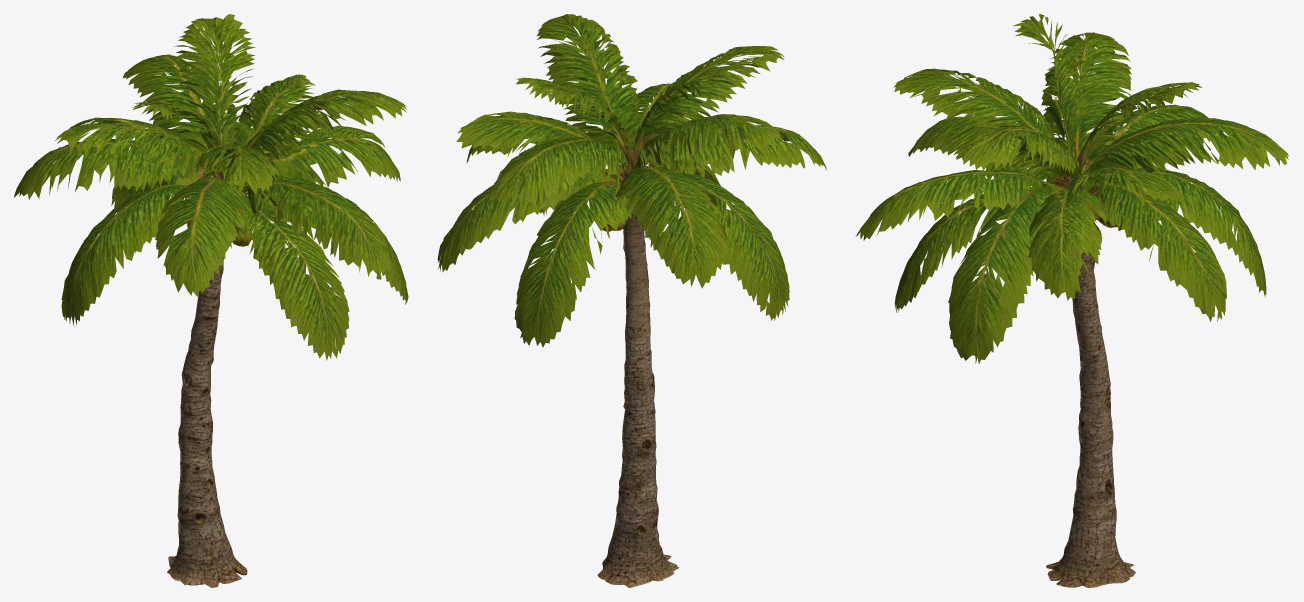
File: tropical-palm.glb
The picture shows the model from 3 angles, left to right: view 1: azimuth 30°, elevation 25°; view 2: azimuth 150°, elevation 25°; view 3: azimuth 270°, elevation 25°; orthographic projection.
Parts seen in each view (by area): view 1: Object_4; view 2: Object_4; view 3: Object_4.
Boxes of the visible parts, box(x1,y1,x2,y2) form: Object_4: box(14, 14, 408, 587); Object_4: box(437, 14, 826, 587); Object_4: box(855, 14, 1288, 587).
Bounding box in the file's own units: 0.6372 × 0.9502 × 0.7275.
1 material, 1 textured.
